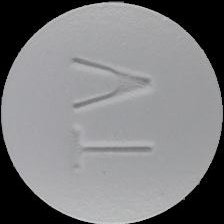0093-7807: (0, 0, 224, 224)
